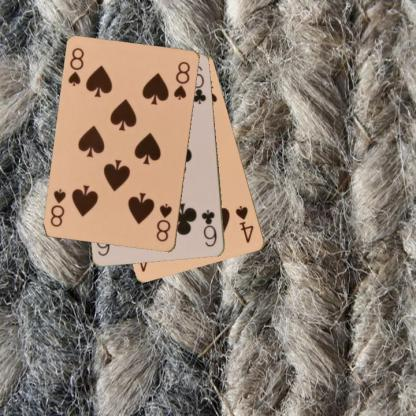4s: (233, 203, 255, 245)
6c: (199, 208, 218, 249)
8s: (154, 201, 173, 243), (66, 45, 85, 87)
